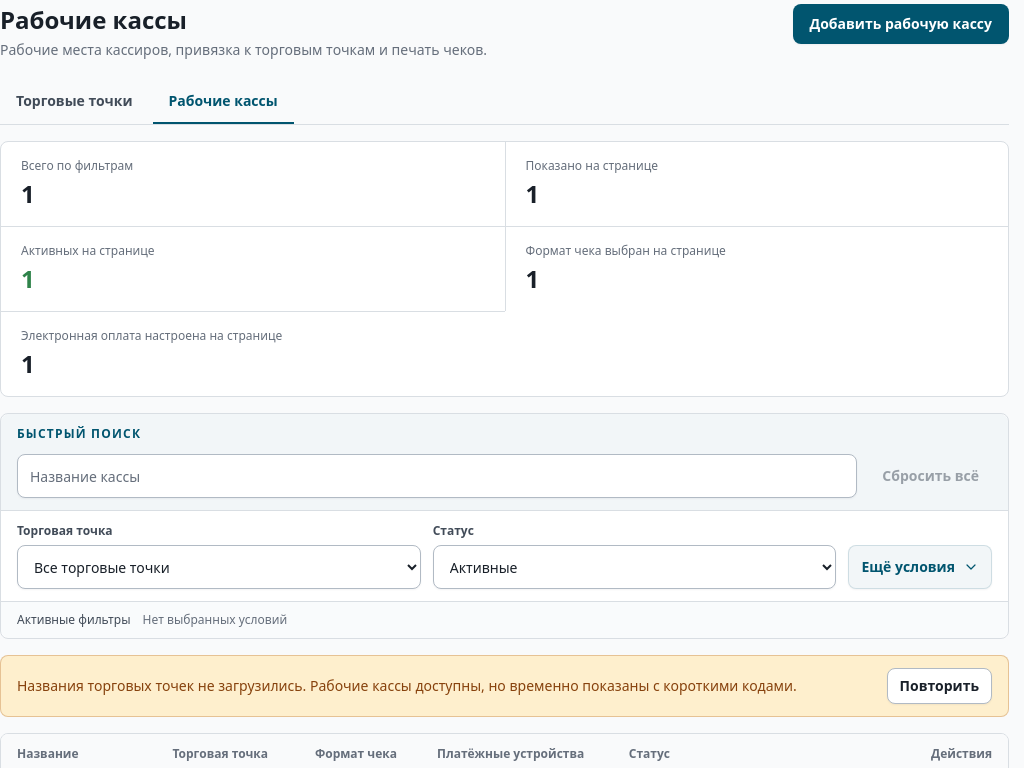
Test: management list filters › blocks register creation until branch options can be loaded
What coordinates should you click on to do the following:
click the button "Добавить рабочую кассу"
I would click on:
 (901, 24)
Its box is x1=792 y1=4 x2=1009 y2=44.
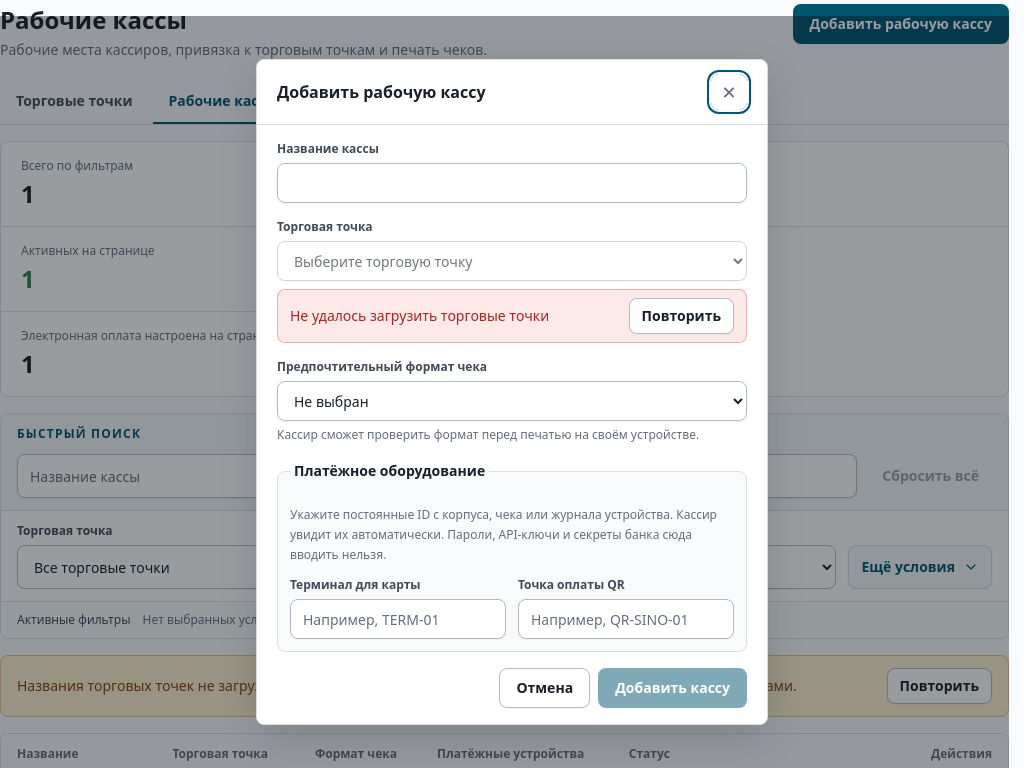
Expected: the message "Не удалось загрузить торговые точки Повторить" is shown, x1=277 y1=289 x2=747 y2=343
Expected: the button "Добавить кассу" is disabled, x1=598 y1=668 x2=747 y2=708
